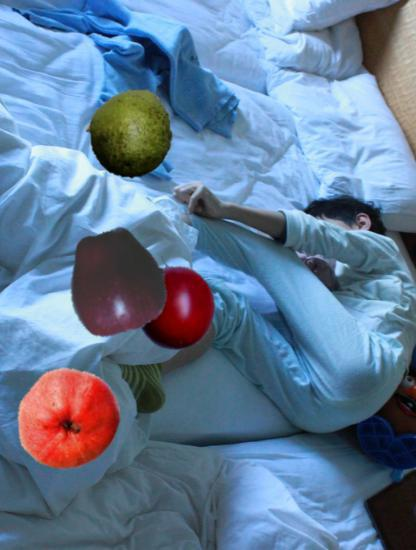Apple: (62, 228, 170, 336)
Avocado: (84, 89, 175, 180)
Pear: (15, 367, 121, 473)
Tamarillo: (126, 254, 225, 353)
